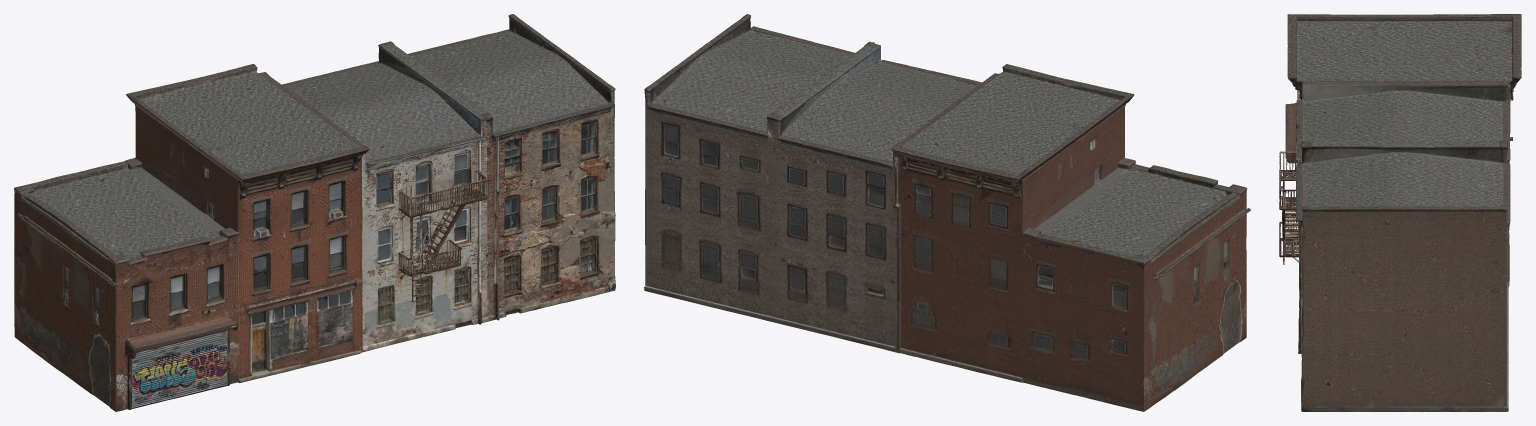
The model's file is row_four_b_hq.glb.
3 renders of one model, left to right at view 1: azimuth 30°, elevation 25°; view 2: azimuth 150°, elevation 25°; view 3: azimuth 270°, elevation 25°, orthographic.
Size of the model in its own units: 40.31 by 16 by 16.65.
Materials: 1 (1 with a texture image).
